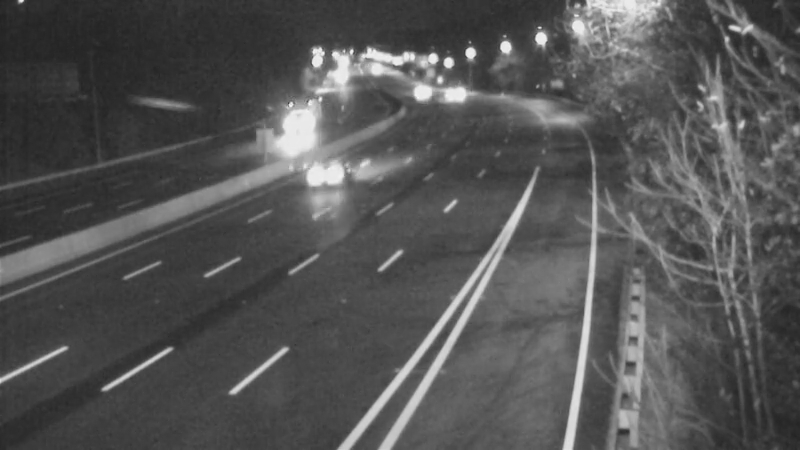vehicle: (292, 133, 372, 213), (394, 67, 444, 117), (428, 69, 478, 119), (270, 102, 320, 152)
